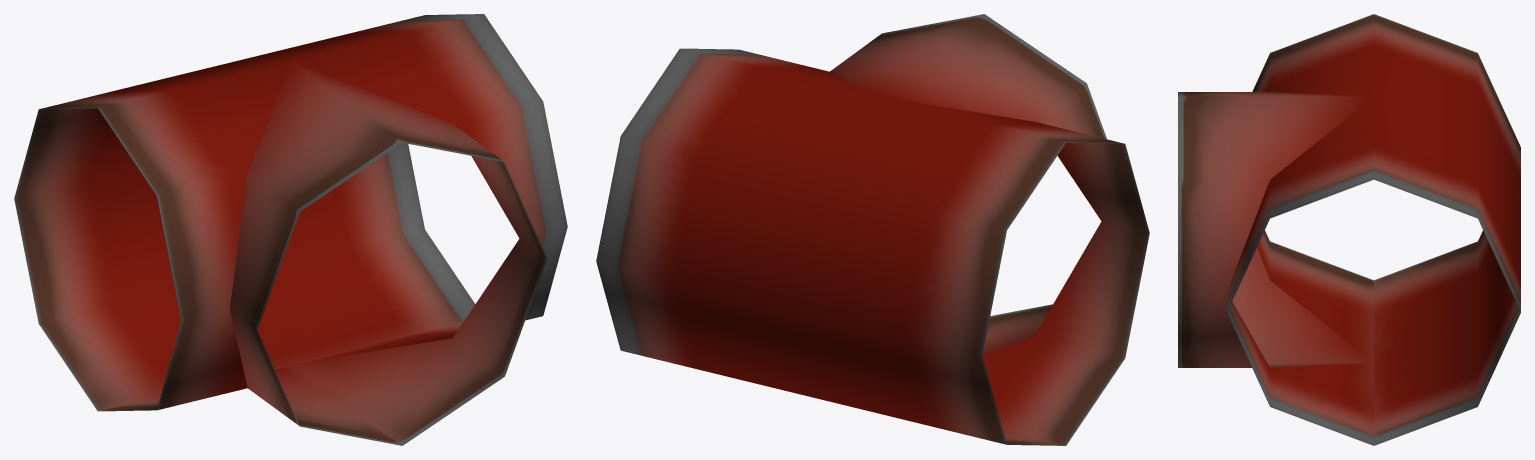
The model's file is pipe01_junction_3way_low.fbx.
3 views of the same model, side by side, from view 1: azimuth 30°, elevation 25°; view 2: azimuth 150°, elevation 25°; view 3: azimuth 270°, elevation 25° (orthographic). The views are drawn at different scales.
Parts seen in each view (by area): view 1: pipe01_junction_3way_low; view 2: pipe01_junction_3way_low; view 3: pipe01_junction_3way_low.
Part boxes in pixels (x1,y1,x2,y2): pipe01_junction_3way_low: [14, 14, 567, 445]; pipe01_junction_3way_low: [596, 14, 1149, 445]; pipe01_junction_3way_low: [1178, 14, 1520, 445].
Bounding box in the file's own units: 16 × 12 × 14.
